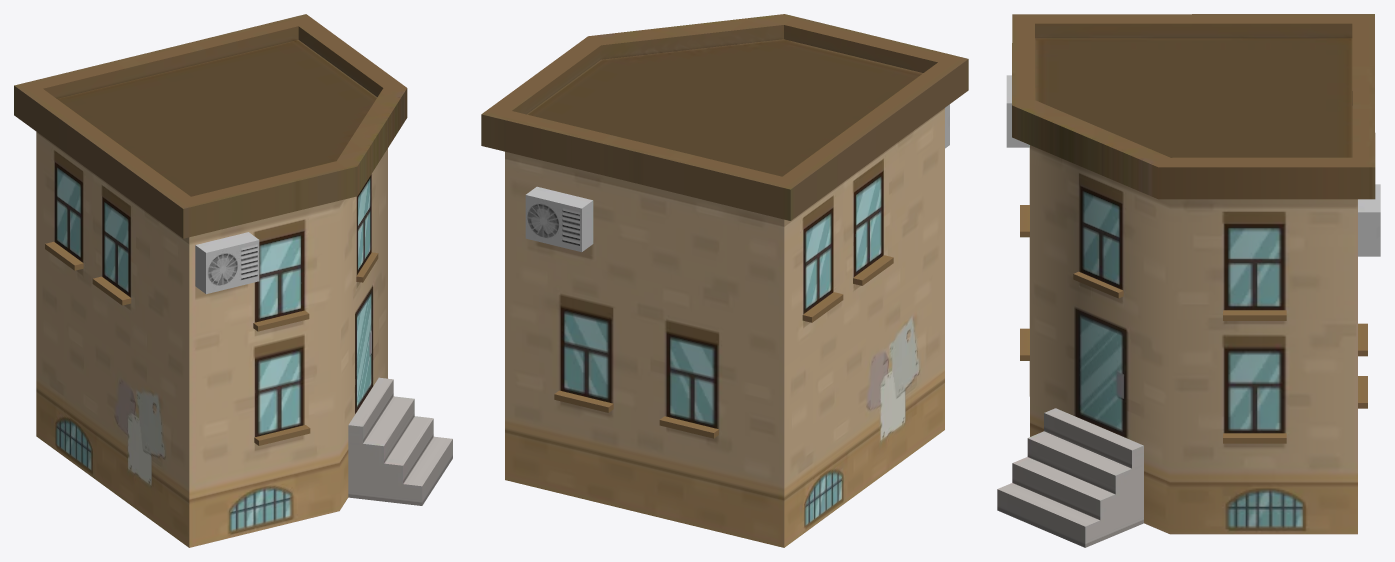
The model's file is city_building_02.glb.
The picture shows the model from 3 angles, left to right: view 1: azimuth 30°, elevation 25°; view 2: azimuth 150°, elevation 25°; view 3: azimuth 270°, elevation 25°; orthographic projection. The views are drawn at different scales.
Parts seen in each view (by area): view 1: city:polySurface334; view 2: city:polySurface334; view 3: city:polySurface334.
Boxes of the visible parts, left/top/right/bottom form: city:polySurface334: left=14, top=14, right=452, bottom=547; city:polySurface334: left=481, top=14, right=968, bottom=547; city:polySurface334: left=997, top=14, right=1380, bottom=547.
Bounding box in the file's own units: 5.94 × 6.51 × 6.04.
1 material, 1 textured.
